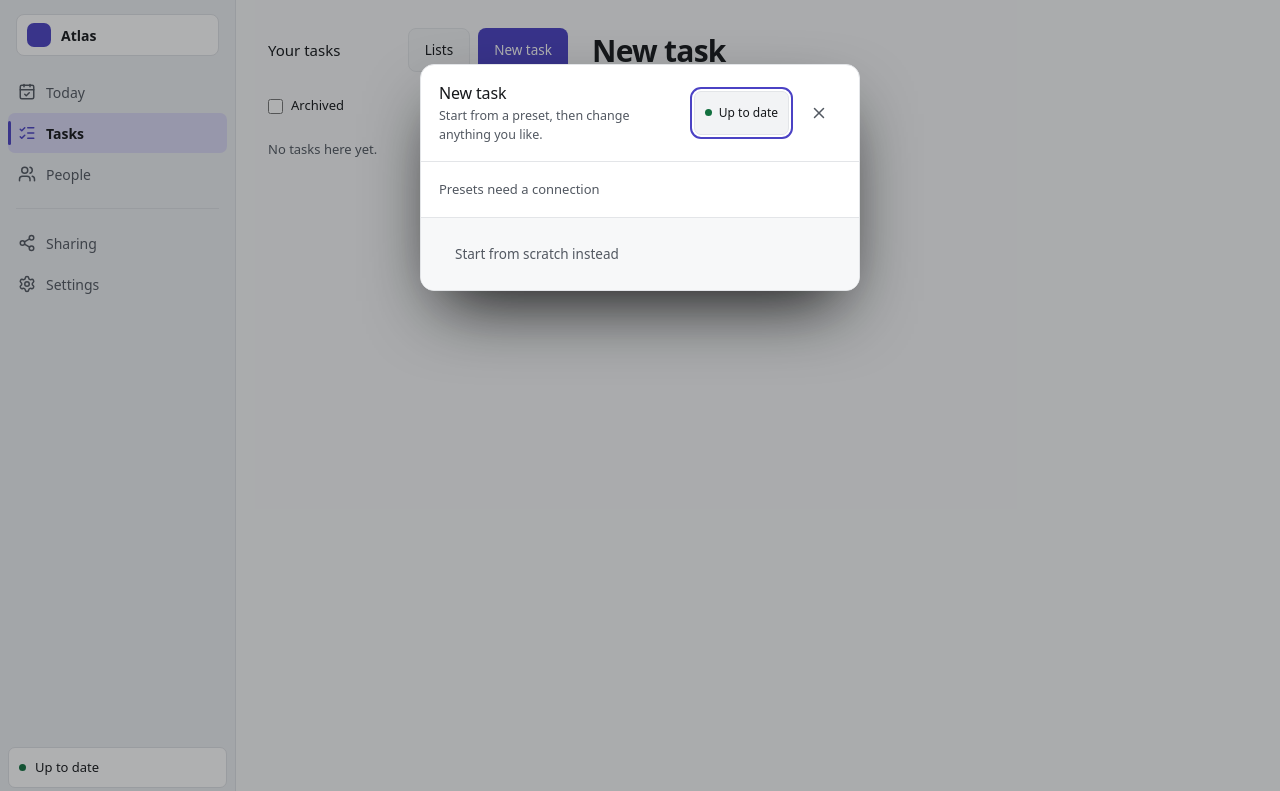
Test case: the new-task form (R33) › control: left for the task list instead, coming back starts afresh at the picker
Click the button "Start from scratch instead". click: (537, 254)
box: [439, 232, 635, 276]
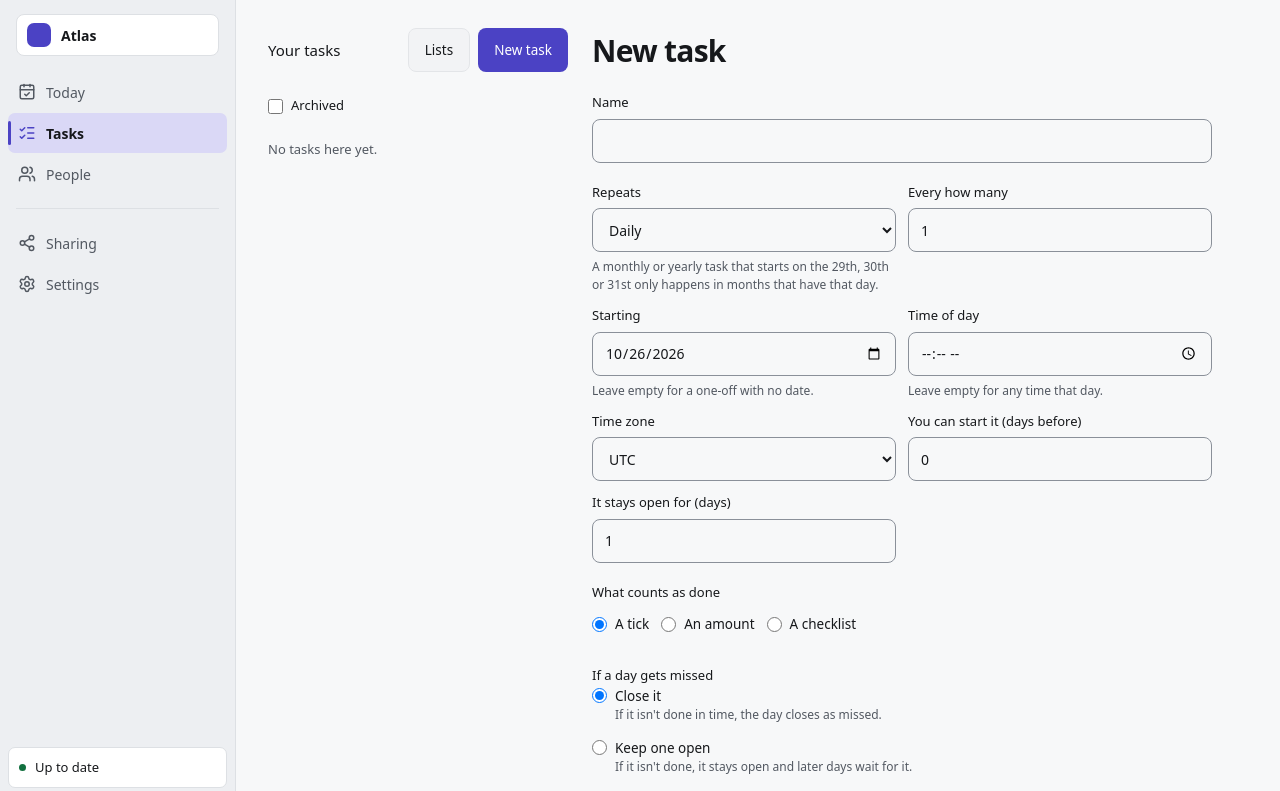
expect the field labelled "Name" is shown: met
Type "Keep this unfinished title" into the field labelled "Name". click: (902, 140)
box: [592, 118, 1212, 162]
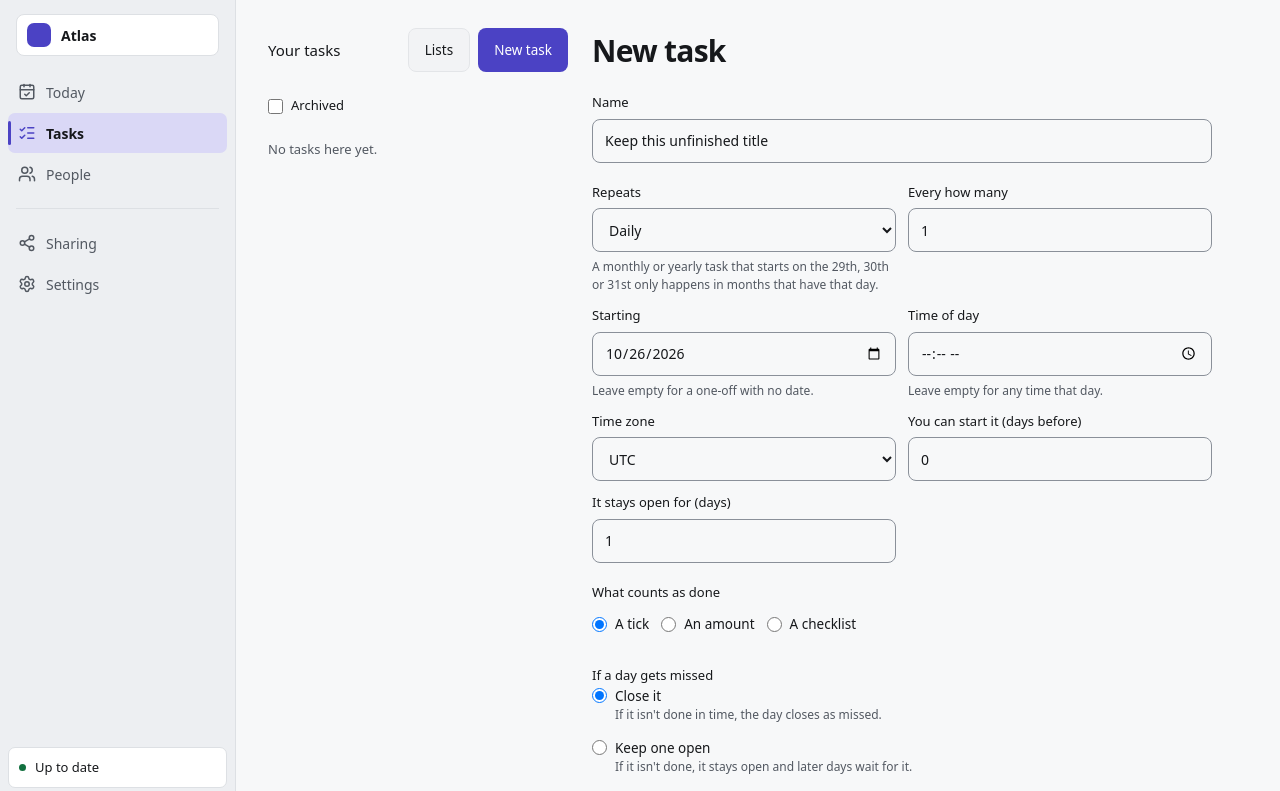
expect the dropdown labelled "Repeats" is shown: met
Select "Daily" in the dropdown labelled "Repeats". click: (744, 230)
box: [592, 208, 896, 252]
expect the field labelled "Every how many" is shown: met
Replace the text in the field labelled "Every how many" with "3x". click: (1060, 230)
box: [908, 208, 1212, 252]
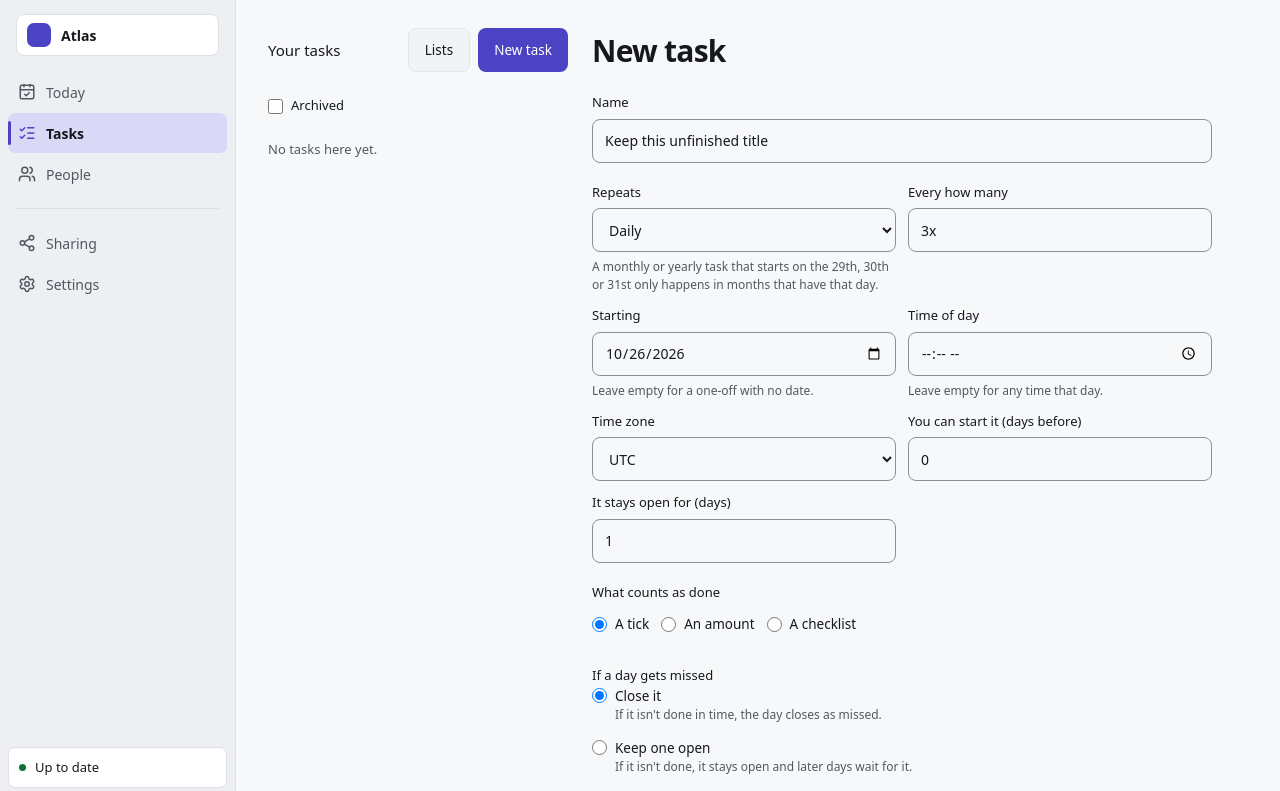
Select "Doesn't repeat" in the dropdown labelled "Repeats". click: (744, 230)
box: [592, 208, 896, 252]
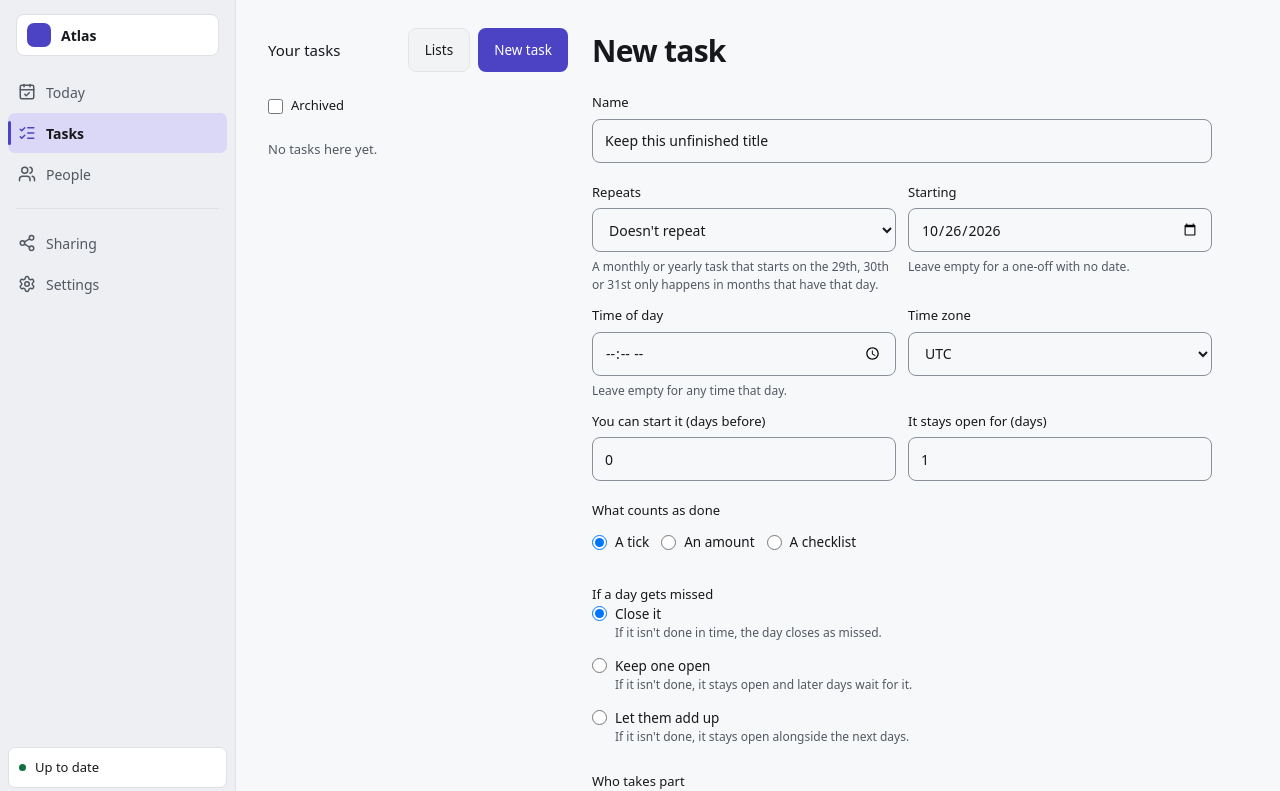
expect the label labelled "Every how many" is gone: met
